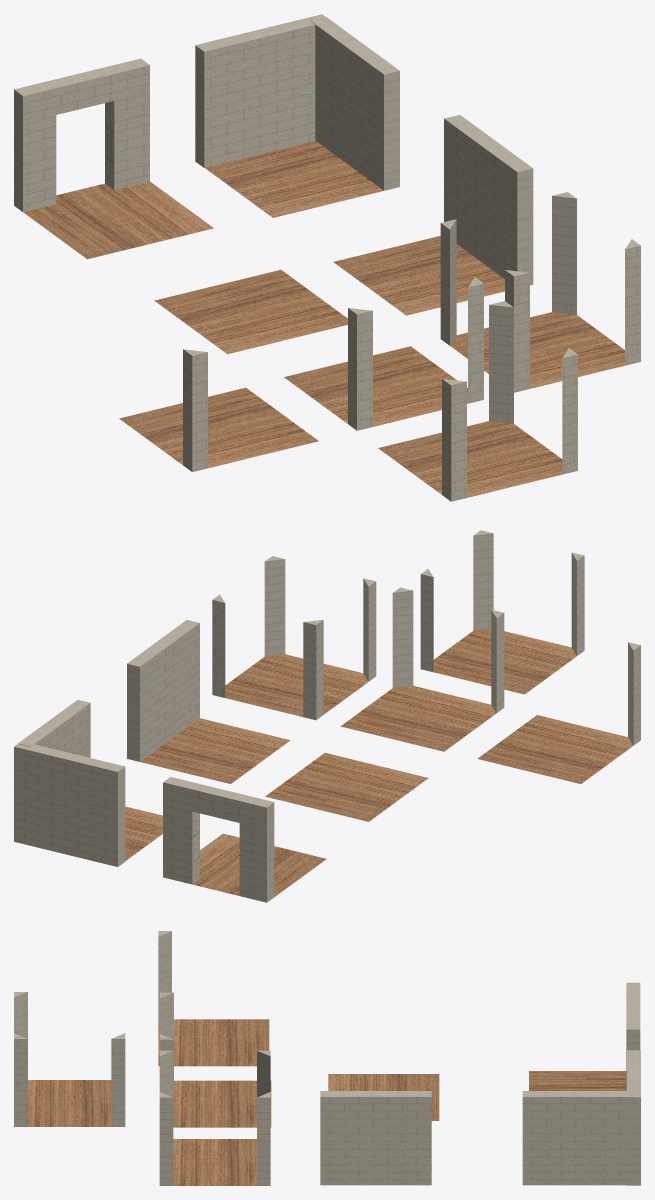
Rendered from walls_for_game_2.glb.
3 views of the same model, one above another, from view 1: azimuth 30°, elevation 25°; view 2: azimuth 150°, elevation 25°; view 3: azimuth 270°, elevation 25° (orthographic). The views are drawn at different scales.
Parts seen in each view (by area): view 1: Cube.000, Cube.001, Cube.003, Cube.013, Cube.004, Cube.009, Cube.010, Cube.005; view 2: Cube.000, Cube.003, Cube.001, Cube.004, Cube.013, Cube.009, Cube.010, Cube.005; view 3: Cube.000, Cube.003, Cube.004, Cube.013, Cube.010, Cube.009, Cube.001, Cube.005.
Part boxes in pixels (<box>): Cube.000: <box>195,14,399,217</box>; Cube.001: <box>14,58,213,259</box>; Cube.003: <box>333,115,533,315</box>; Cube.013: <box>378,301,577,501</box>; Cube.004: <box>440,192,640,392</box>; Cube.009: <box>284,277,483,430</box>; Cube.010: <box>119,349,318,471</box>; Cube.005: <box>154,269,347,354</box>; Cube.000: <box>14,700,162,866</box>; Cube.003: <box>127,620,290,783</box>; Cube.001: <box>163,777,326,902</box>; Cube.004: <box>212,556,376,720</box>; Cube.013: <box>420,530,584,694</box>; Cube.009: <box>340,587,504,751</box>; Cube.010: <box>477,642,640,783</box>; Cube.005: <box>265,753,428,821</box>; Cube.000: <box>522,1050,640,1185</box>; Cube.003: <box>320,1091,431,1185</box>; Cube.004: <box>159,1050,270,1185</box>; Cube.013: <box>14,992,125,1126</box>; Cube.010: <box>158,931,269,1066</box>; Cube.009: <box>160,992,271,1127</box>; Cube.001: <box>529,982,640,1090</box>; Cube.005: <box>328,1074,439,1120</box>.
Size of the model in its own units: 28.33 by 7.03 by 45.1.
Materials: 3 (3 with a texture image).
